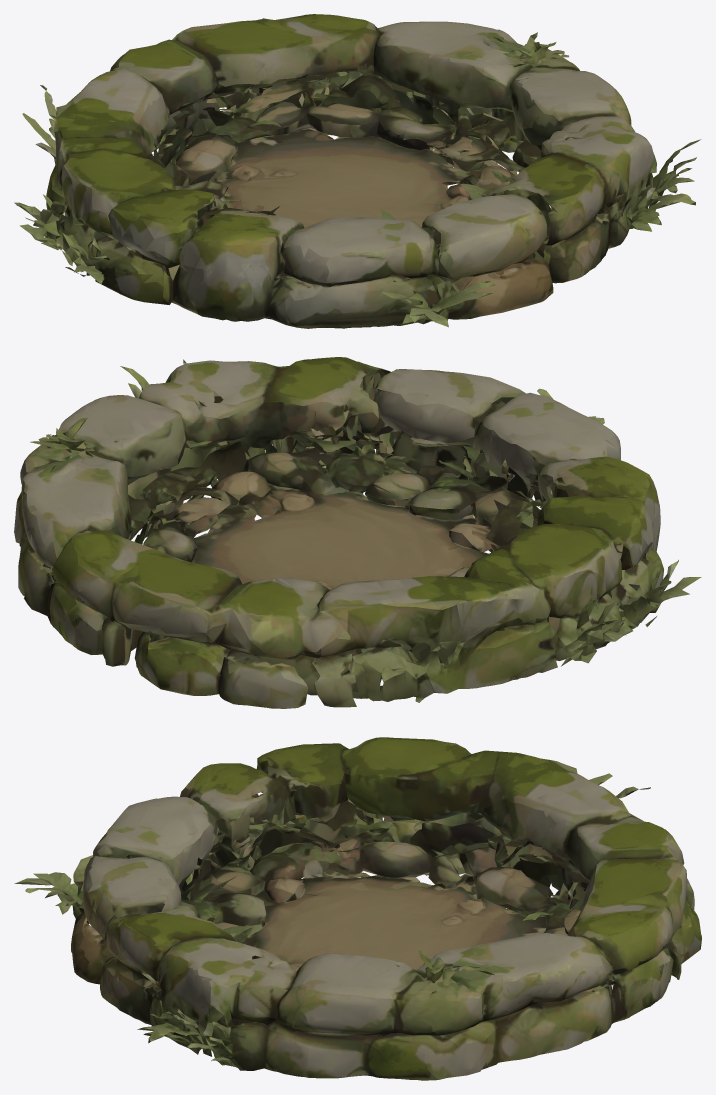
Rendered from spring_thanh_moc.glb.
The picture shows the model from 3 angles, top to bottom: view 1: azimuth 30°, elevation 25°; view 2: azimuth 150°, elevation 25°; view 3: azimuth 270°, elevation 25°; orthographic projection. The views are drawn at different scales.
Visible parts, largest first — view 1: spring_thanh_moc; view 2: spring_thanh_moc; view 3: spring_thanh_moc.
Boxes of the visible parts, x1=… form: spring_thanh_moc: x1=14, y1=14, x2=701, y2=328; spring_thanh_moc: x1=14, y1=357, x2=701, y2=708; spring_thanh_moc: x1=14, y1=737, x2=701, y2=1080.
Bounding box in the file's own units: 3 × 0.5378 × 2.98.
1 material, 1 textured.
